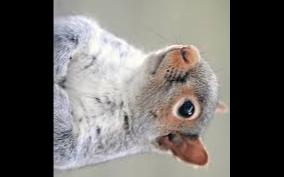Non_Gorille: (54, 8, 230, 174)
